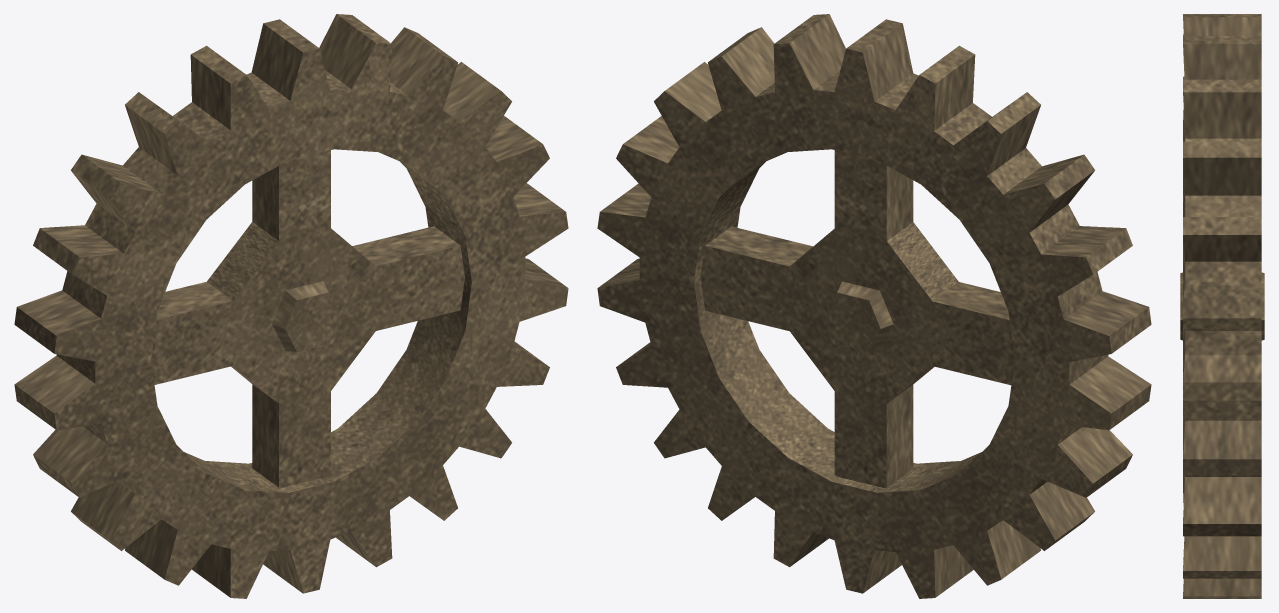
File: cog02.FBX
3 views of the same model, side by side, from view 1: azimuth 30°, elevation 25°; view 2: azimuth 150°, elevation 25°; view 3: azimuth 270°, elevation 25° (orthographic).
Parts seen in each view (by area): view 1: cog02; view 2: cog02; view 3: cog02.
Part boxes in pixels (x1=…): cog02: x1=14, y1=14, x2=568, y2=598; cog02: x1=597, y1=14, x2=1151, y2=598; cog02: x1=1180, y1=14, x2=1264, y2=598.
Bounding box in the file's own units: 136 × 137 × 19.64.
1 material, 1 textured.
